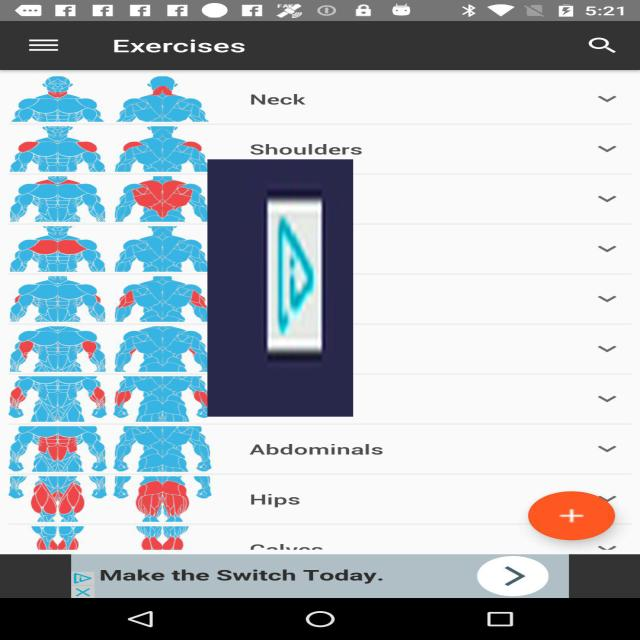sneaking: (208, 159, 354, 417)
